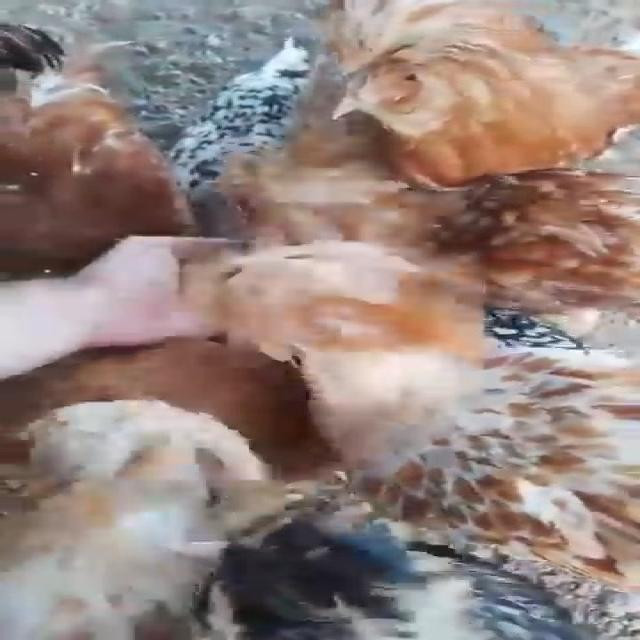pecking: (135, 232, 640, 572)
